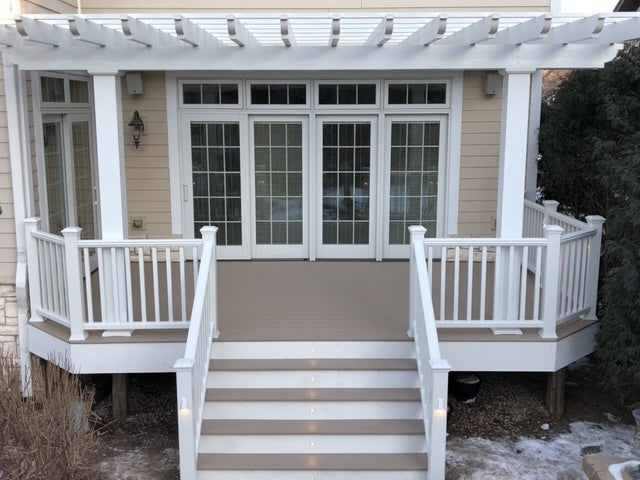upstairs: (220, 334, 405, 480)
